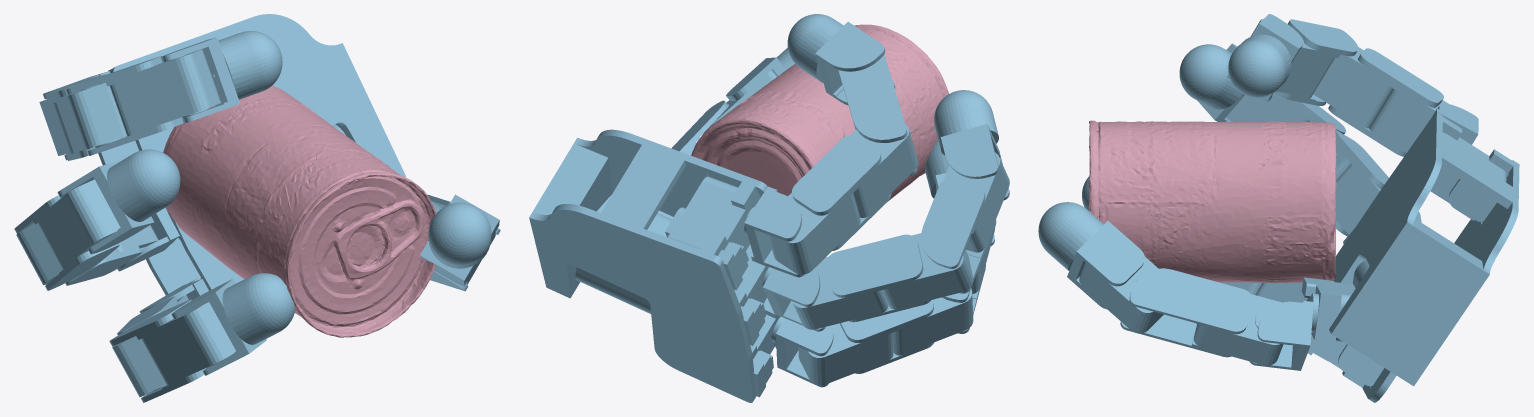
3 renders of one model, left to right at view 1: azimuth 30°, elevation 25°; view 2: azimuth 150°, elevation 25°; view 3: azimuth 270°, elevation 25°, orthographic. The views are drawn at different scales.
Parts seen in each view (by area): view 1: world, tomato_soup_can.stl; view 2: world, tomato_soup_can.stl; view 3: world, tomato_soup_can.stl.
Boxes of the visible parts, box(x1,y1,x2,y2) form: world: box(14, 14, 500, 402); tomato_soup_can.stl: box(163, 85, 436, 337); world: box(529, 14, 1009, 402); tomato_soup_can.stl: box(691, 24, 948, 201); world: box(1038, 14, 1519, 402); tomato_soup_can.stl: box(1088, 120, 1336, 282).
Size of the model in its own units: 0.174 by 0.156 by 0.1978.
